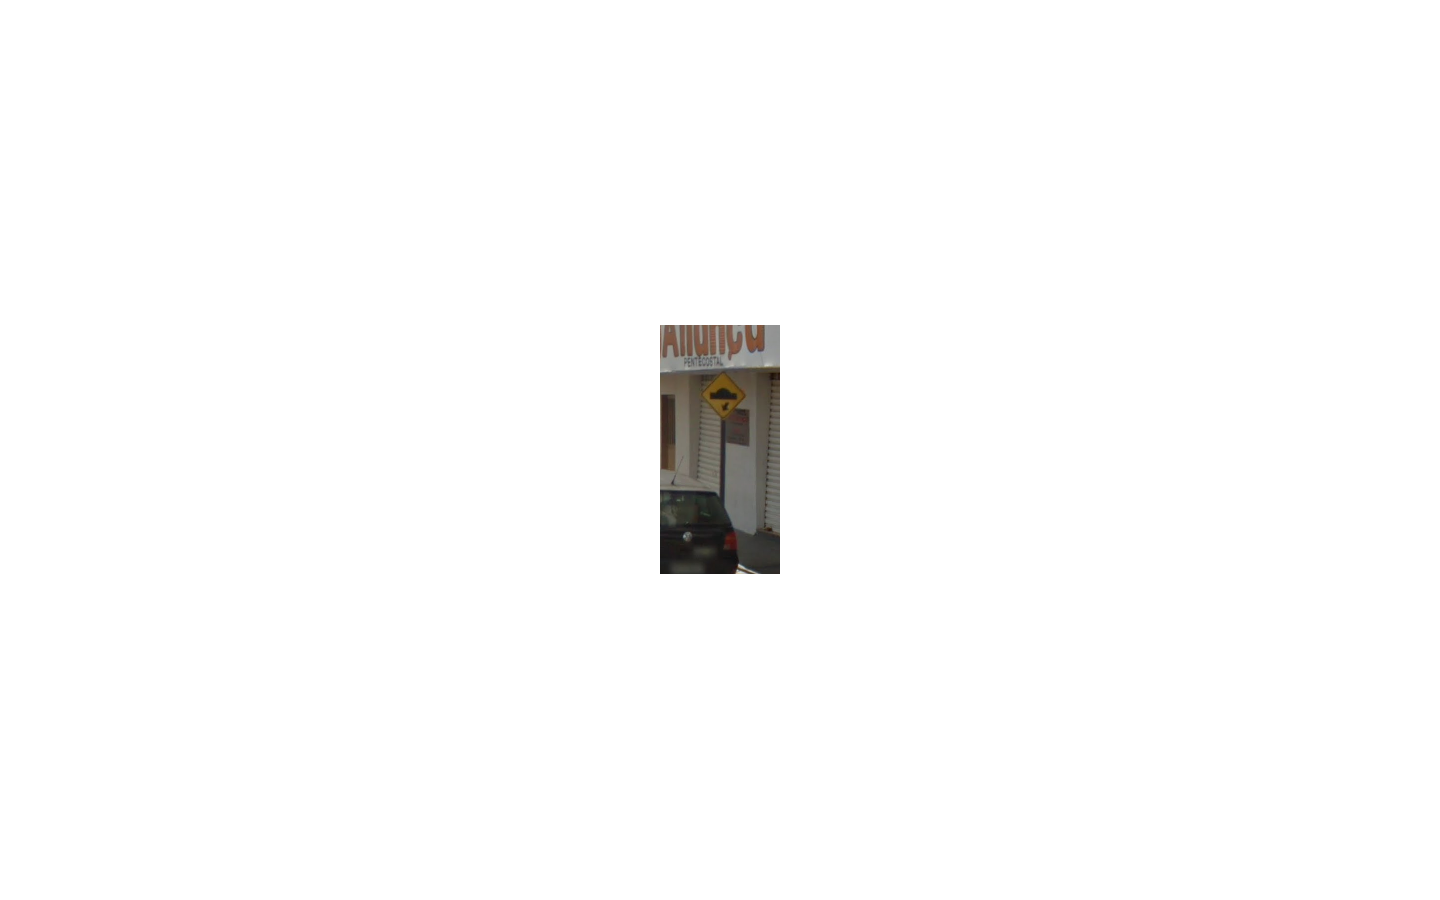lomb: (701, 370, 746, 420)
